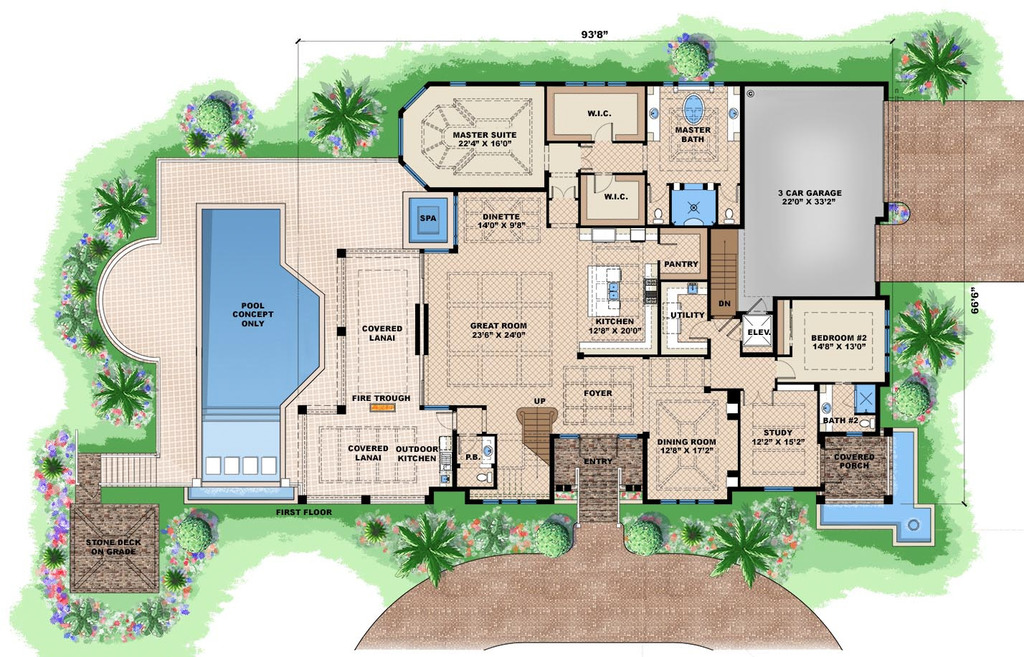door: (774, 357, 798, 382), (716, 180, 740, 202), (593, 121, 616, 143), (647, 181, 668, 204), (688, 318, 709, 340), (549, 185, 577, 201), (591, 172, 612, 193)
large_sink: (716, 205, 739, 226), (648, 207, 666, 225), (859, 416, 875, 432)
stairs: (495, 405, 555, 496), (707, 226, 742, 318)
